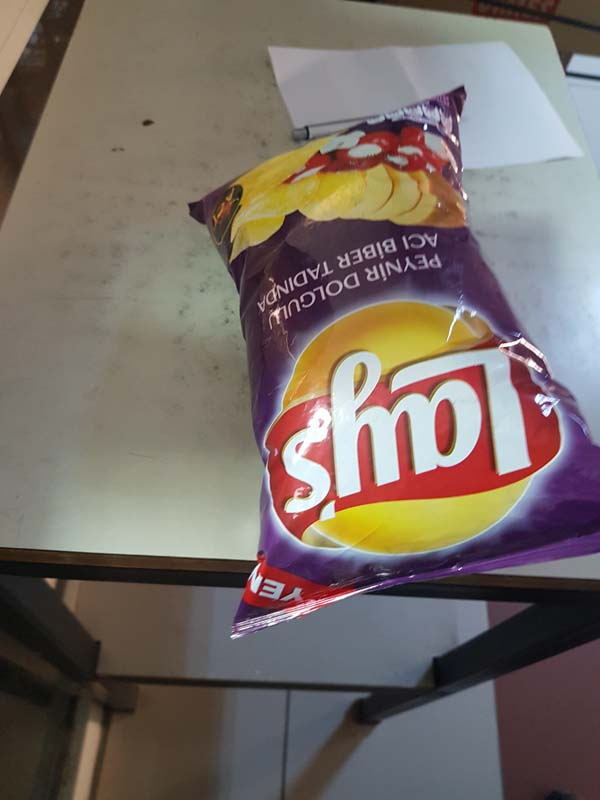layspeynirsoslu: (156, 81, 600, 634)
